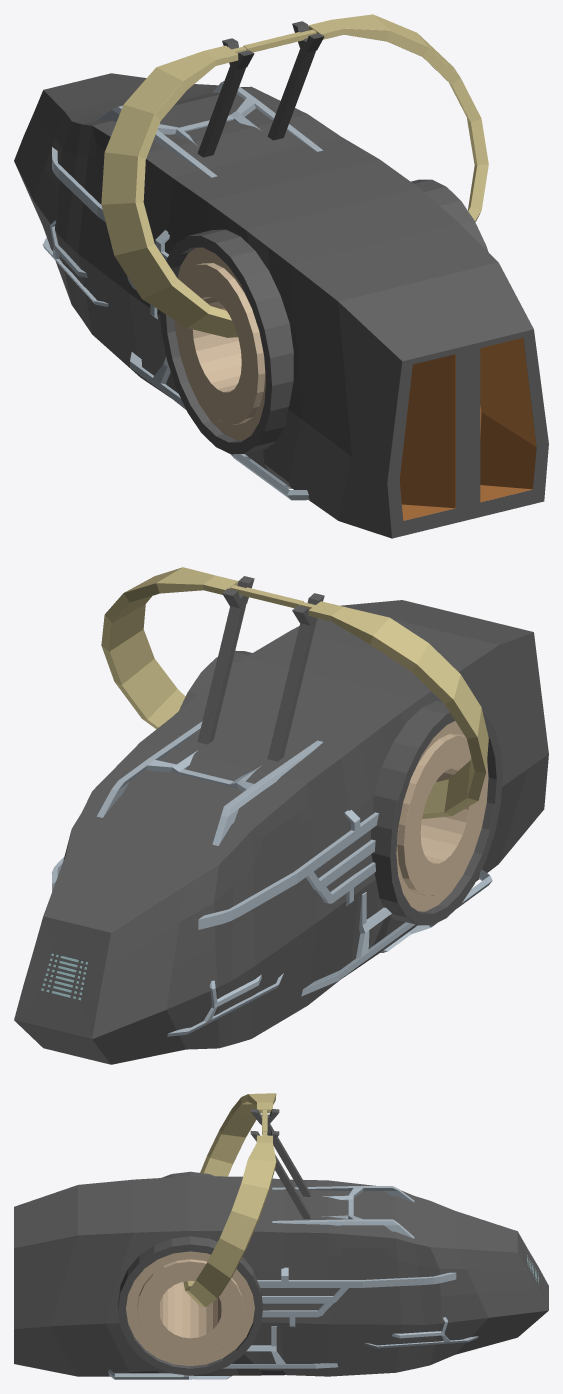
Rendered from fleetship.fbx.
3 renders of one model, top to bottom at view 1: azimuth 30°, elevation 25°; view 2: azimuth 150°, elevation 25°; view 3: azimuth 270°, elevation 25°, orthographic. The views are drawn at different scales.
Visible parts, largest first — view 1: Cube; view 2: Cube; view 3: Cube.
Boxes of the visible parts, x1,y1,x2,y2 form: Cube: (14,14,548,538); Cube: (14,567,548,1064); Cube: (14,1093,548,1379).
Bounding box in the file's own units: 46148 × 42674 × 88197.
